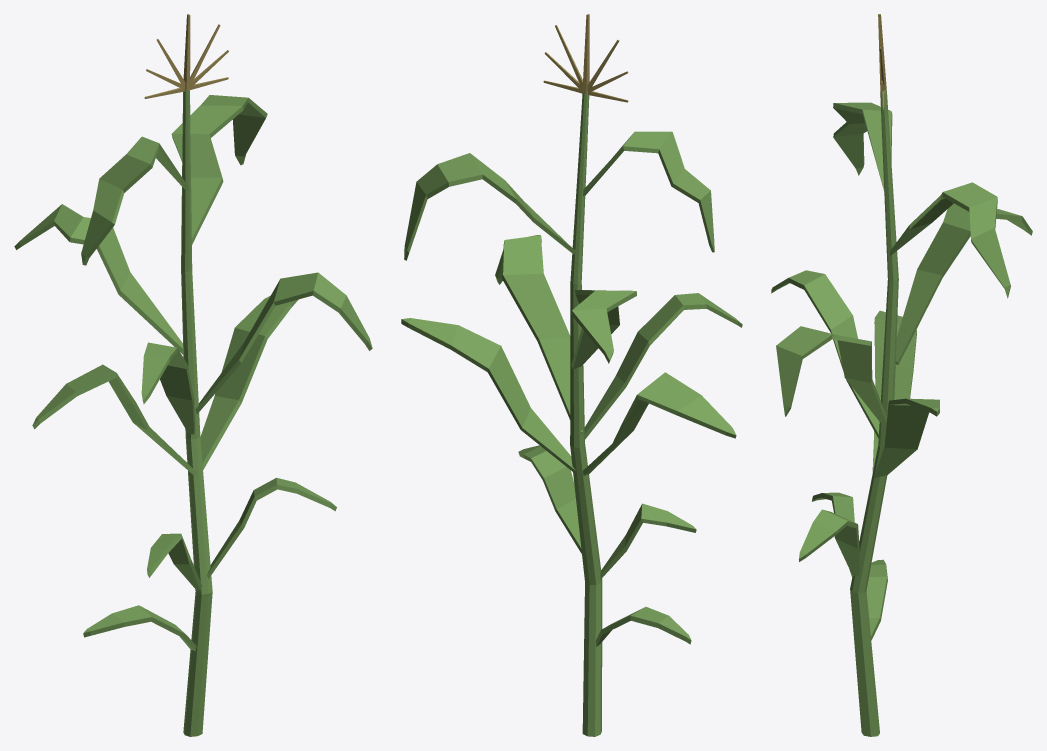
File: Corn_Harvested.glb
3 views of the same model, side by side, from view 1: azimuth 30°, elevation 25°; view 2: azimuth 150°, elevation 25°; view 3: azimuth 270°, elevation 25° (orthographic).
Visible parts, largest first — view 1: Green, Yellow; view 2: Green, Yellow; view 3: Green, Yellow.
Boxes of the visible parts, left/top/right/bottom form: Green: left=14, top=87, right=372, bottom=736; Yellow: left=144, top=14, right=228, bottom=98; Green: left=401, top=91, right=742, bottom=736; Yellow: left=543, top=14, right=628, bottom=102; Green: left=771, top=89, right=1032, bottom=736; Yellow: left=878, top=14, right=886, bottom=111.
Size of the model in its own units: 0.8873 by 1.97 by 0.649.
